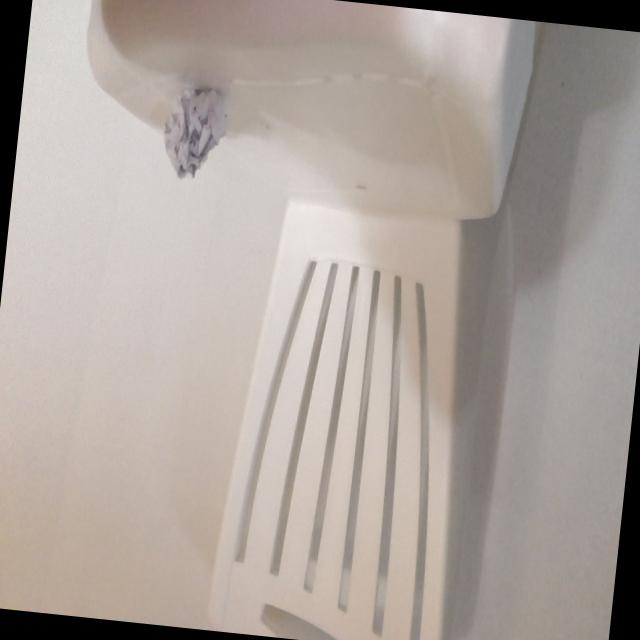crumpled_paper: (157, 78, 233, 186)
